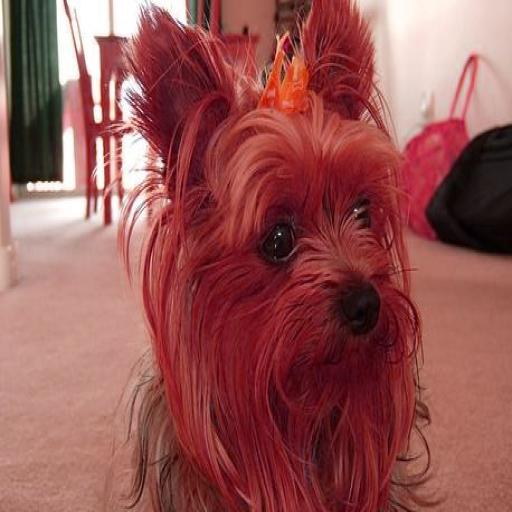dog_face: (130, 0, 417, 427)
